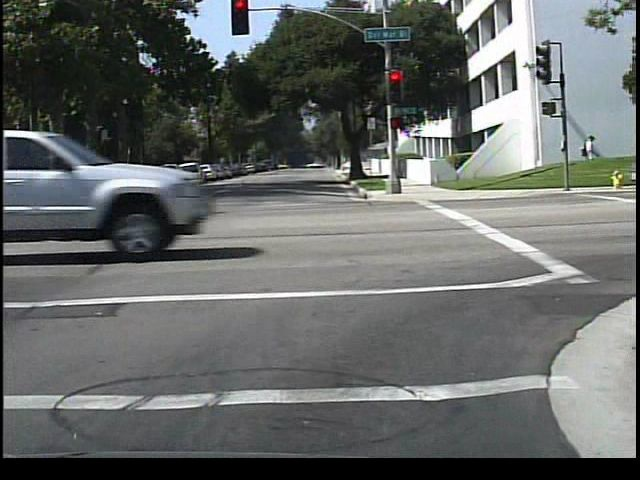person: (578, 127, 602, 183)
